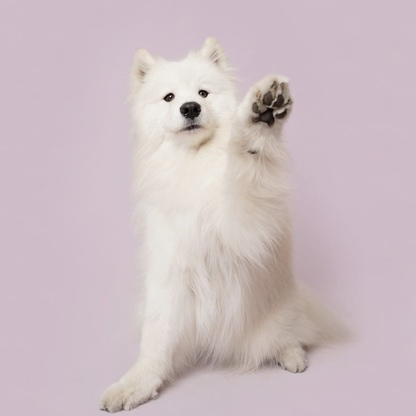samoyed: (95, 32, 356, 416)
